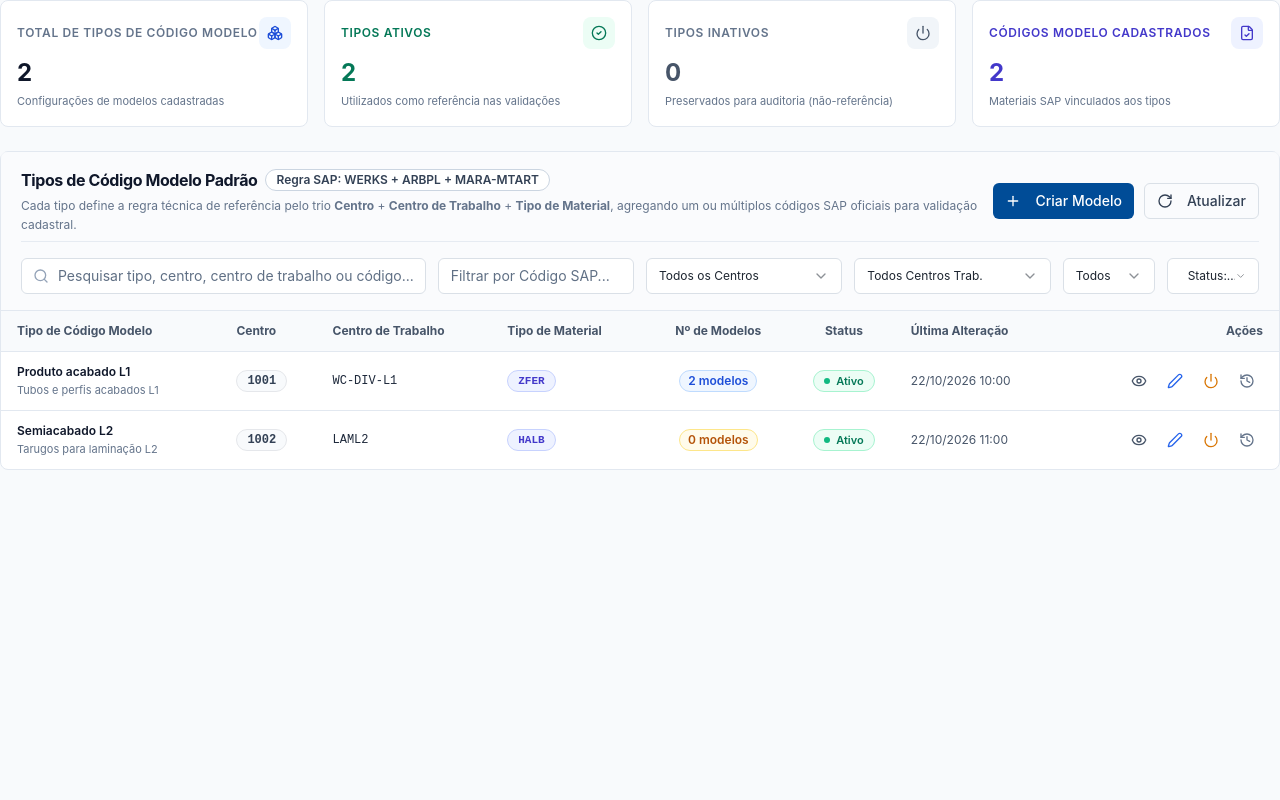
Test: Editar Tipo de Código Modelo Padrão — UI & Acceptance Requirements › 3. Abre o modal retitulado "Editar Tipo de Código Modelo Padrão" preenchido com dados do registro e itens
Check: the text "Produto acabado L1" is shown, box [17, 364, 130, 378]
Click the button named "Editar Produto acabado L1". click: click(1175, 380)
box: [1159, 364, 1191, 396]
(page scrolled)
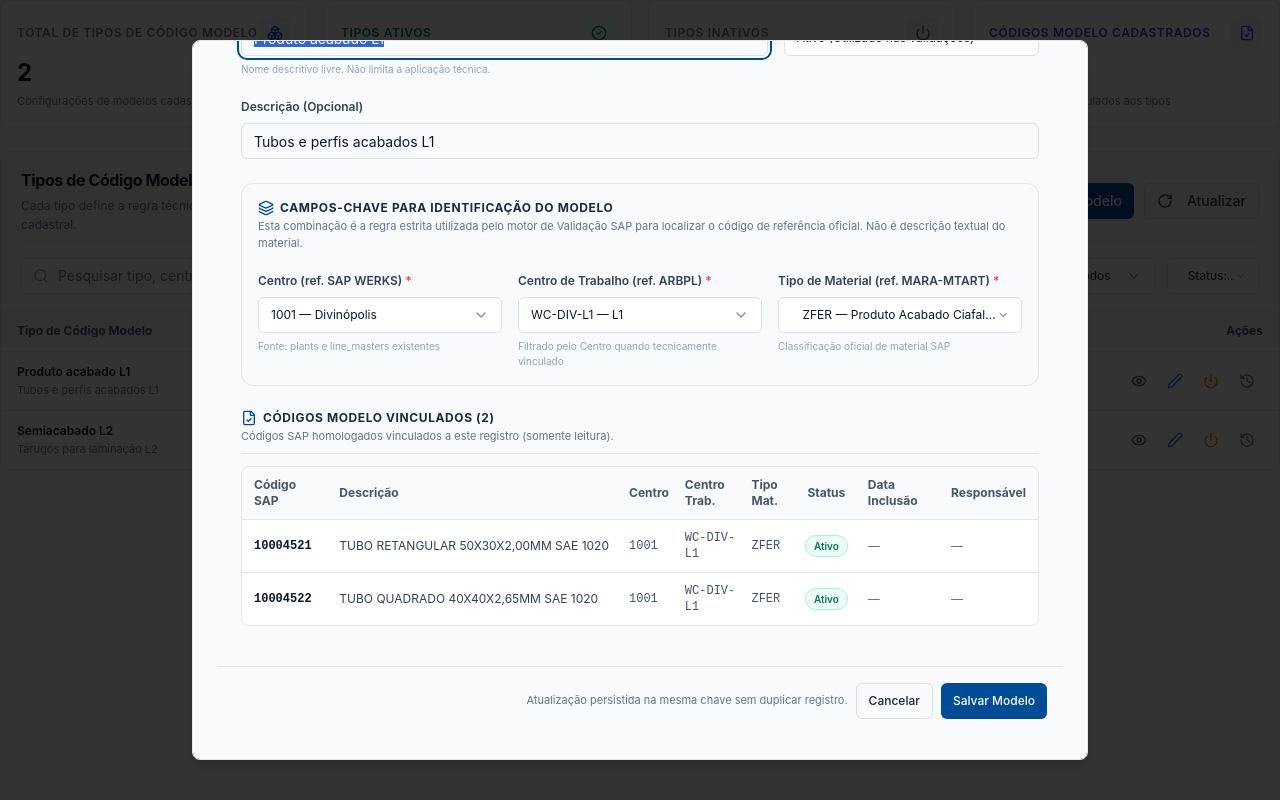
Check: the field showing "Tubos e perfis acabados L1" is shown, box [241, 123, 1039, 159]
Check: the text "10004521" is shown, box [242, 519, 327, 572]
Check: the text "10004522" is shown, box [242, 572, 327, 624]
